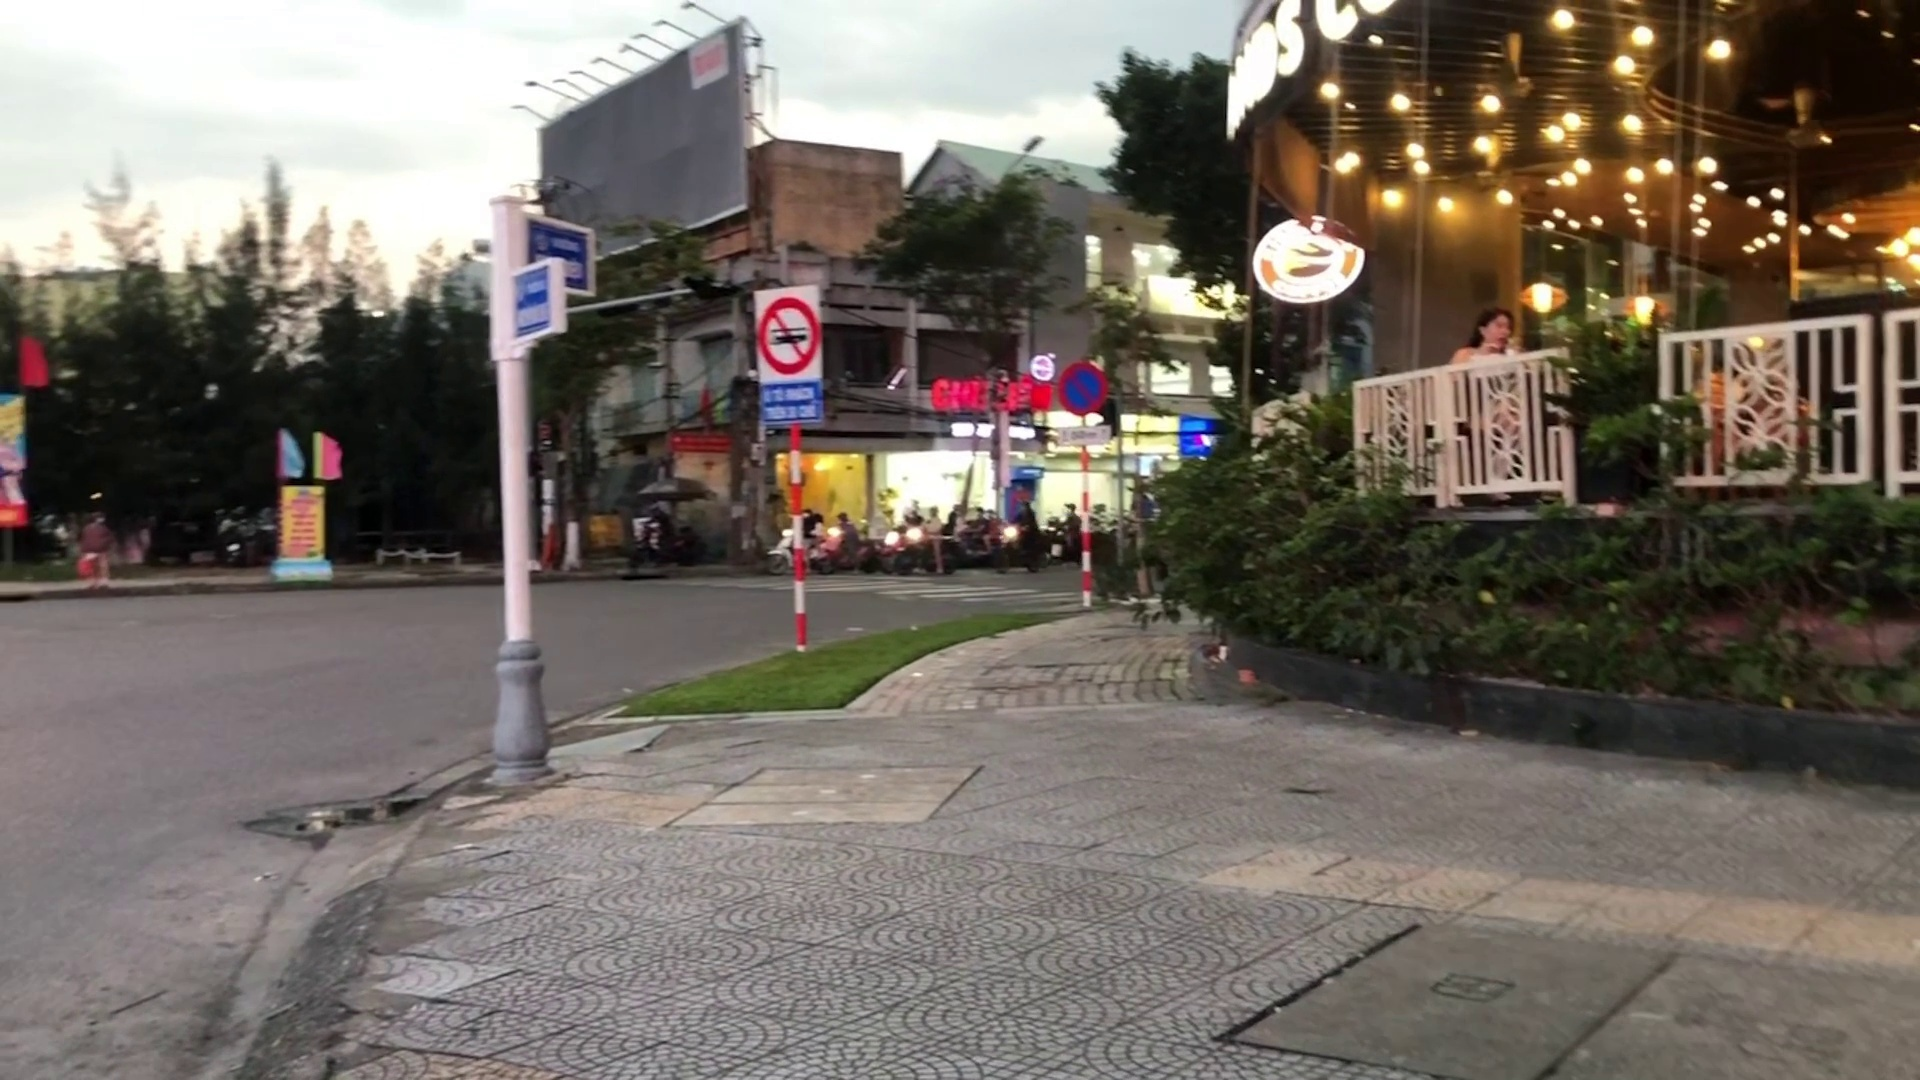Bien khac: (753, 282, 822, 427)
Cam do xe: (1054, 359, 1112, 419)
